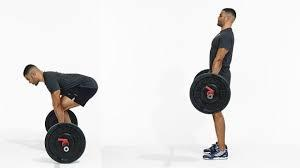Barbell: (64, 147, 71, 154), (208, 94, 215, 101)
